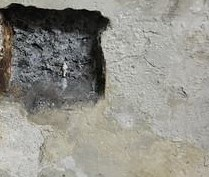Spalling: (1, 2, 112, 116)
